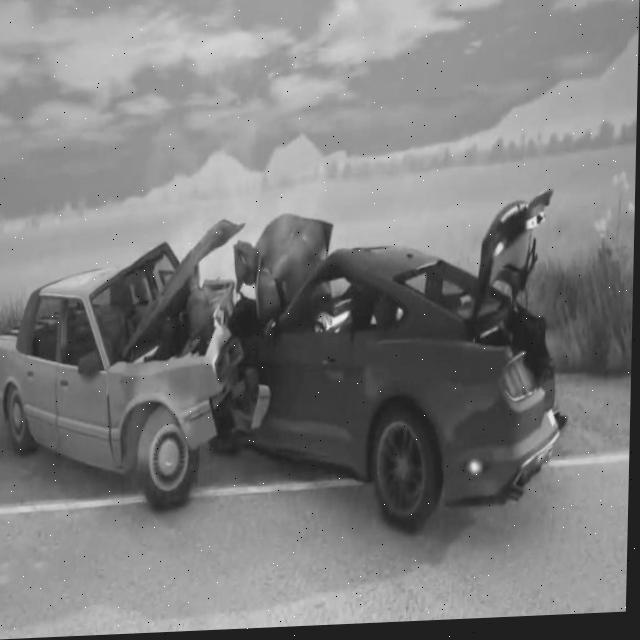multiple_accident: (0, 130, 577, 558)
